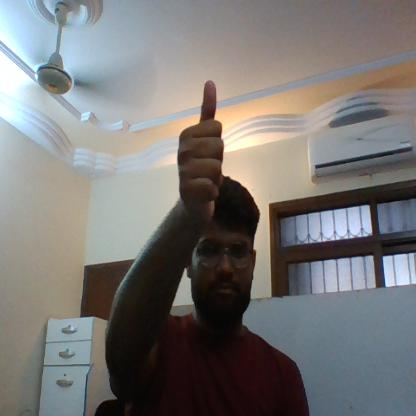thumbs-up: (173, 80, 231, 208)
